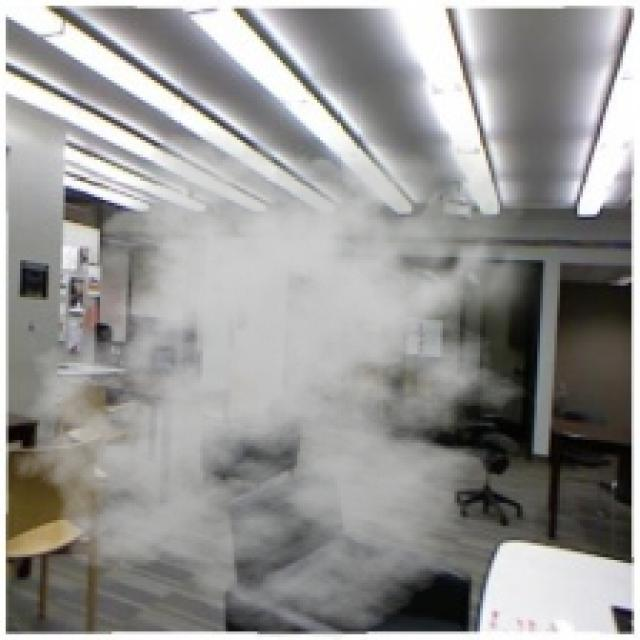smoke: (11, 114, 566, 637)
